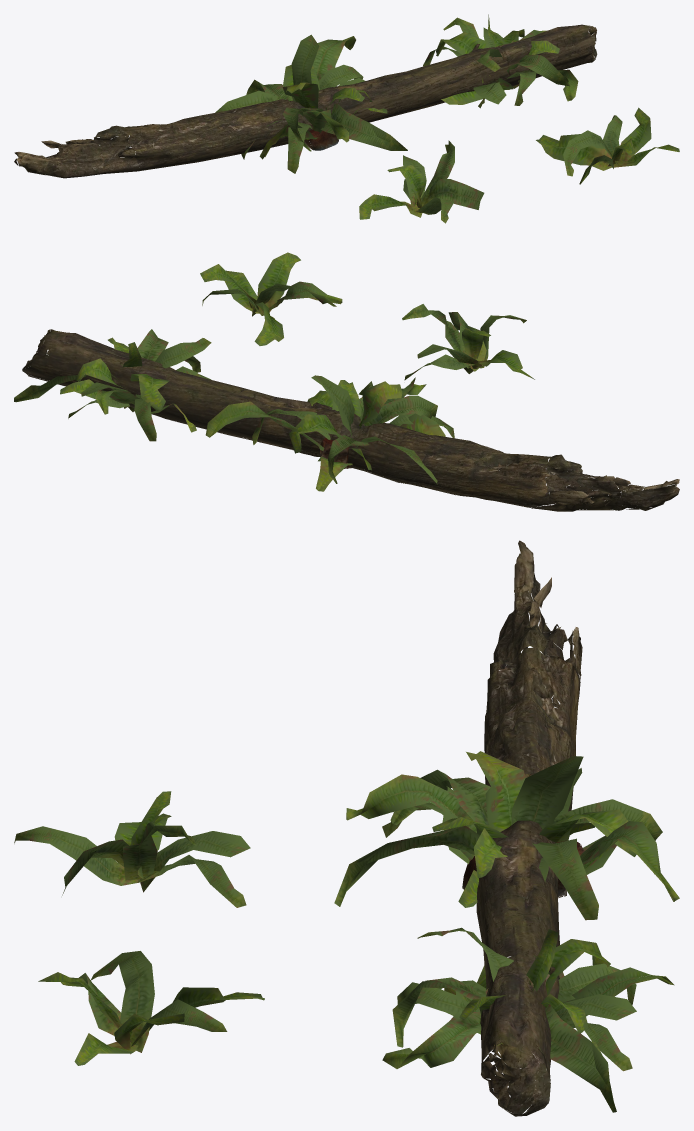
The model's file is scanned-props.glb.
3 renders of one model, top to bottom at view 1: azimuth 30°, elevation 25°; view 2: azimuth 150°, elevation 25°; view 3: azimuth 270°, elevation 25°, orthographic. The views are drawn at different scales.
Visible parts, largest first — view 1: fern_02, dead_tree_trunk, rock_07; view 2: dead_tree_trunk, fern_02; view 3: fern_02, dead_tree_trunk.
Part boxes in pixels (bbox=[...]): fern_02: bbox=[215, 14, 679, 223]; dead_tree_trunk: bbox=[14, 24, 597, 178]; rock_07: bbox=[304, 129, 338, 150]; dead_tree_trunk: bbox=[22, 329, 679, 511]; fern_02: bbox=[14, 252, 534, 491]; fern_02: bbox=[14, 751, 679, 1112]; dead_tree_trunk: bbox=[476, 540, 582, 1116].
Size of the model in its own units: 3.05 by 0.4292 by 1.72.
3 materials, 3 textured.
